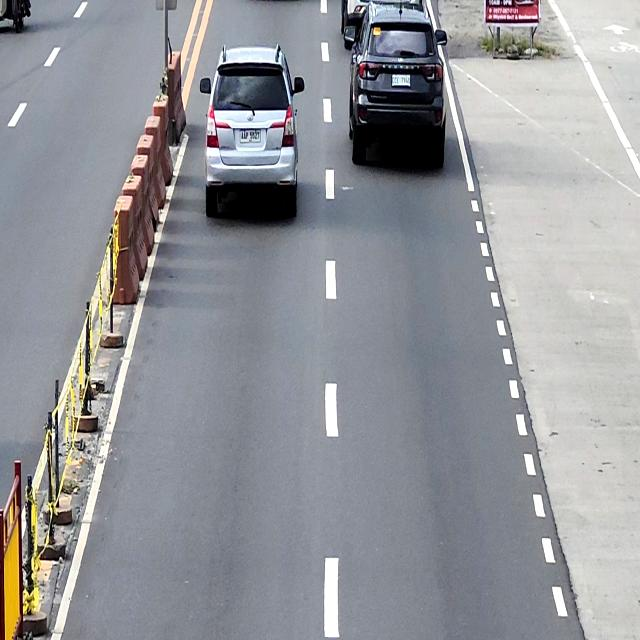Car: (199, 43, 305, 218), (344, 0, 448, 168)
License-Plate: (239, 128, 262, 143), (392, 74, 411, 88)
